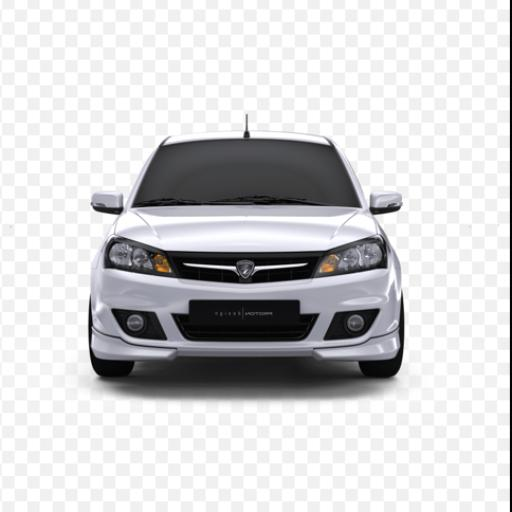sedan: (90, 132, 405, 376)
